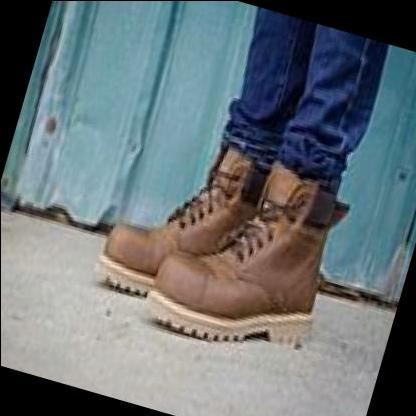safety-shoe: (141, 151, 362, 385), (72, 106, 266, 317)
